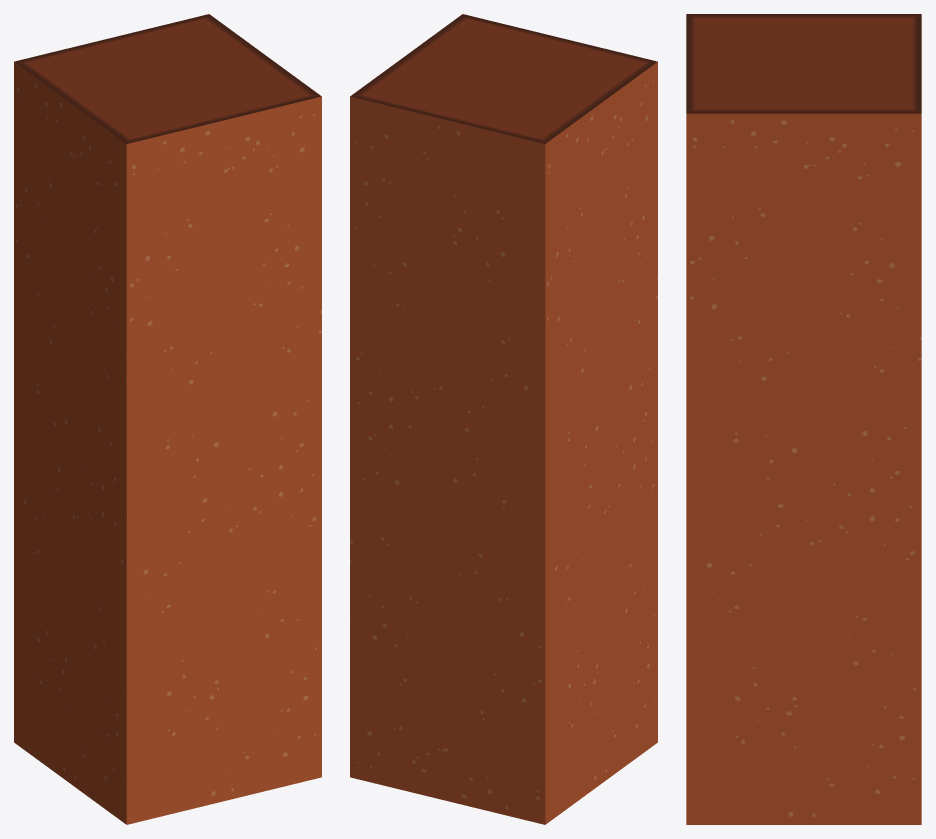
The model's file is Wall_60cm.fbx.
3 views of the same model, side by side, from view 1: azimuth 30°, elevation 25°; view 2: azimuth 150°, elevation 25°; view 3: azimuth 270°, elevation 25° (orthographic). The views are drawn at different scales.
Visible parts, largest first — view 1: Wall_60cm; view 2: Wall_60cm; view 3: Wall_60cm.
Part boxes in pixels (box(x1,y1,x2,y2)): Wall_60cm: box(14, 14, 321, 824); Wall_60cm: box(350, 14, 657, 824); Wall_60cm: box(686, 14, 921, 824).
Bounding box in the file's own units: 60 × 200 × 60.
